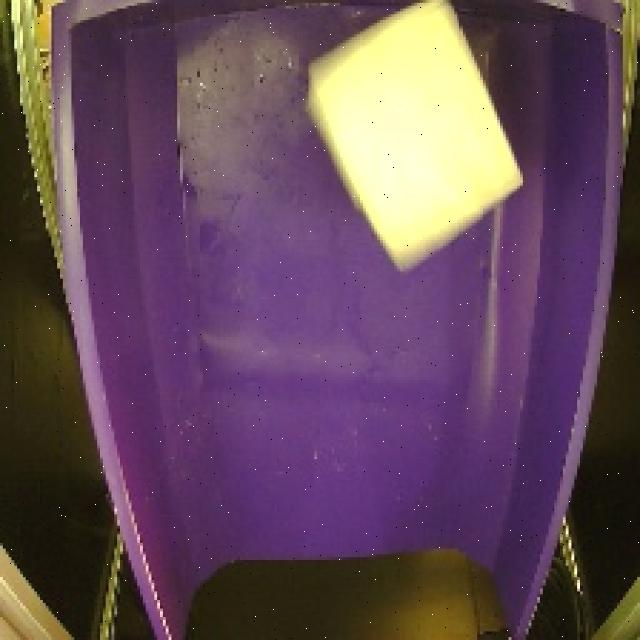white_radish: (288, 0, 534, 273)
